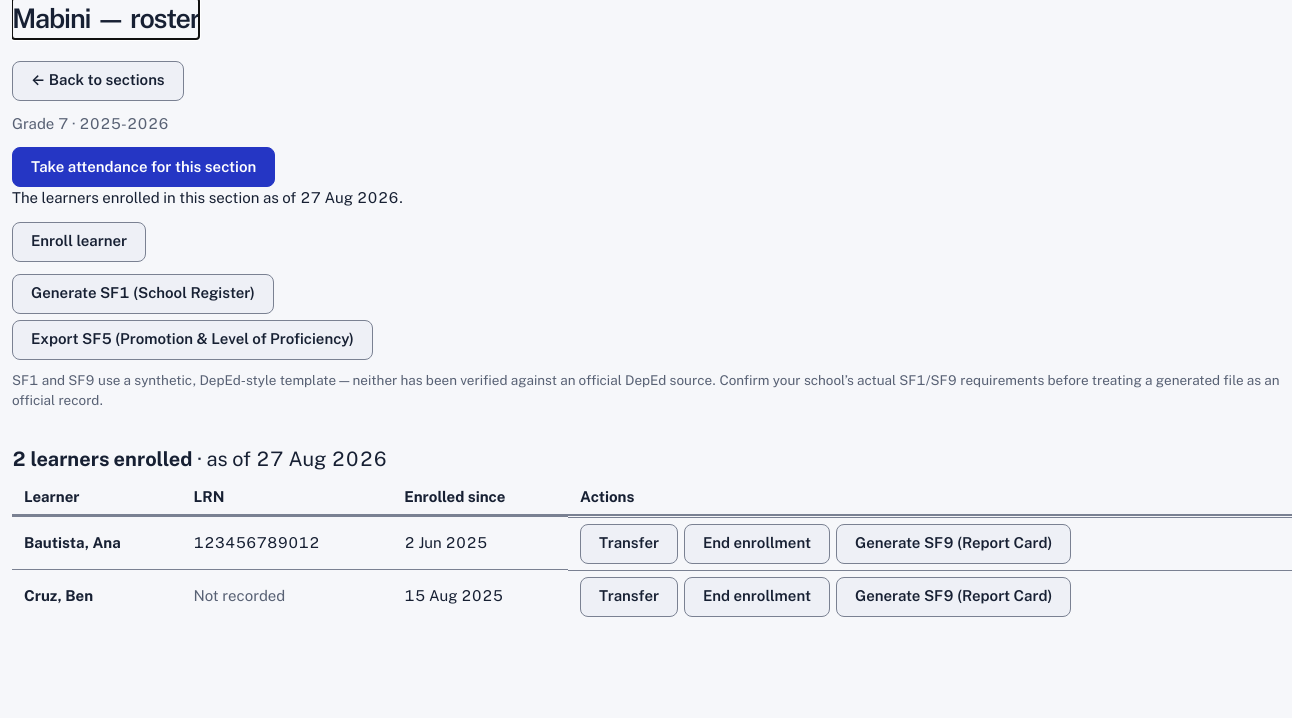
Test: SectionRosterScreen › ends a learner's enrollment and refreshes the roster
Check: the column heading "Bautista, Ana" is shown, box [12,517,182,570]
Click the button with aria-label "End enrollment for Bautista, Ana" at (757, 544), box [684,524,830,564]
(page scrolled)
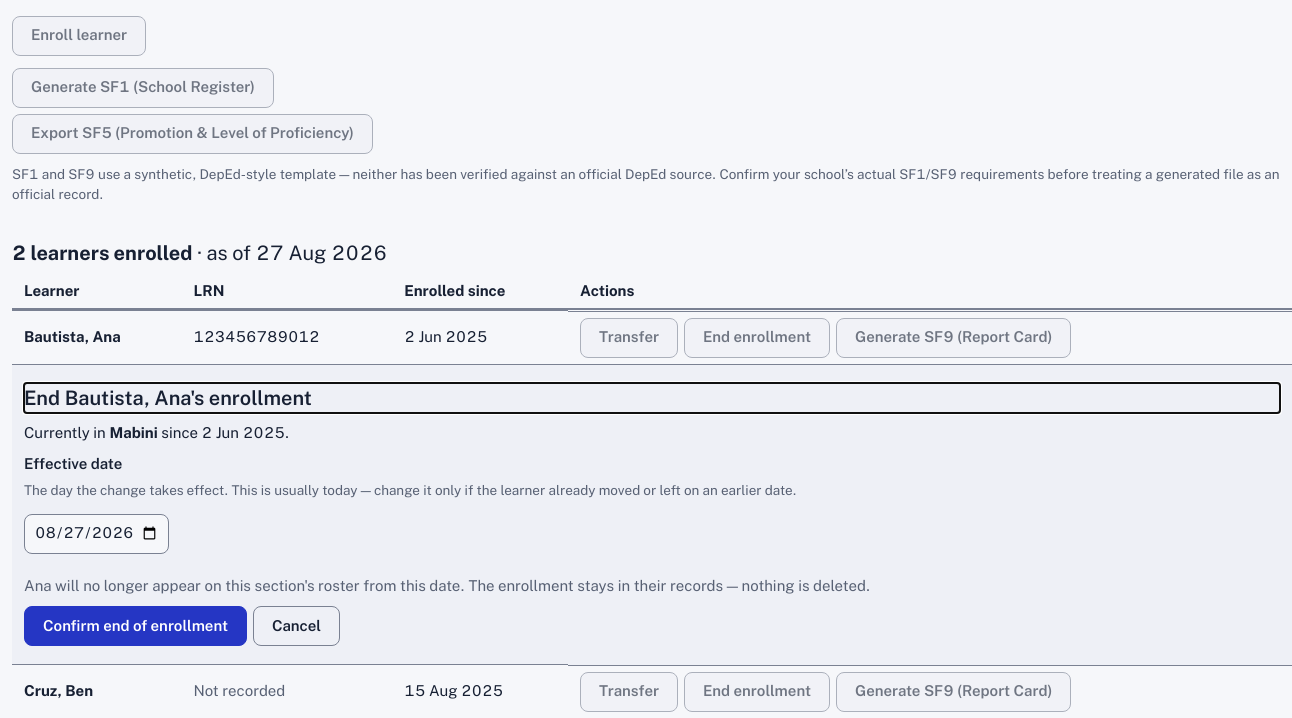
Click the button "Confirm end of enrollment" at (136, 626), box [24,606,247,646]
(page scrolled)
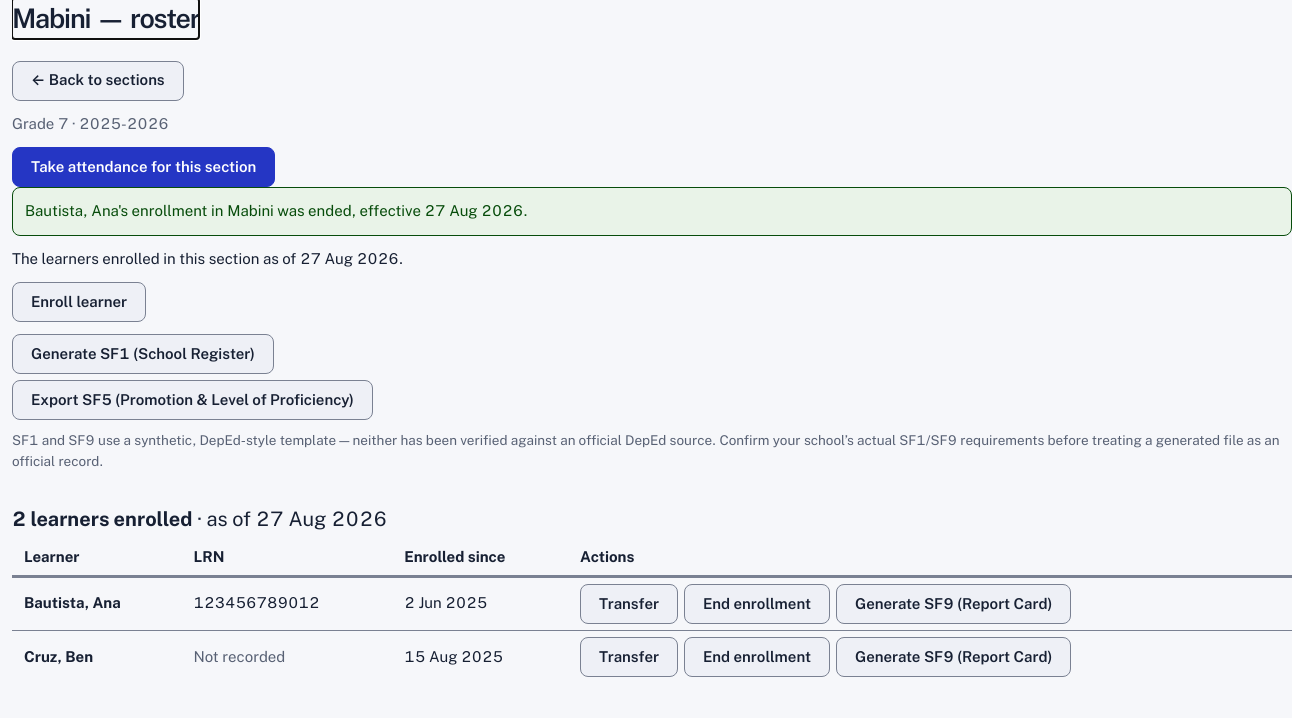
Check: the text "Bautista, Ana's enrollment in Mabini was ended, effective 27 Aug 2026." is shown, box [12,187,1291,236]
